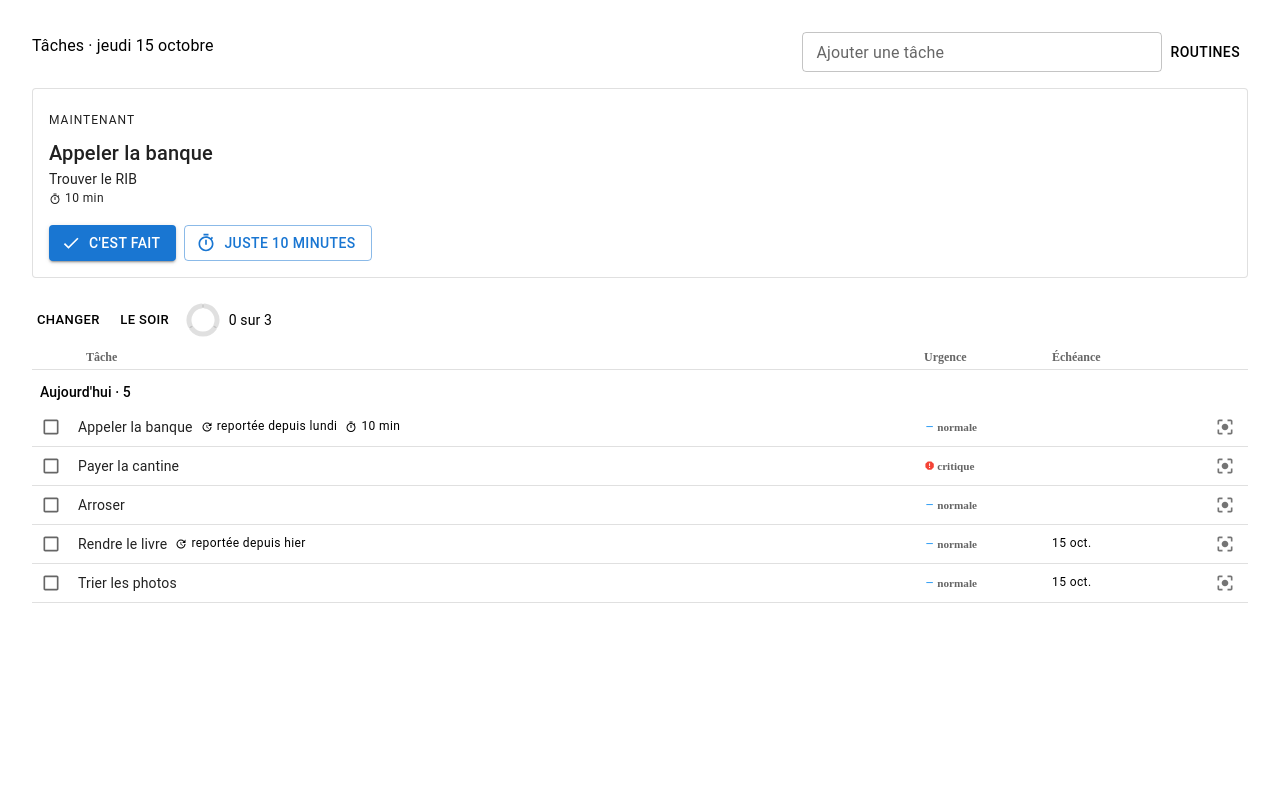
it: TaskBoard › the bravo (MAG-508) › a slot ticked from its checkbox and « C'est fait » in the Focus open the bravo too
The width and height of the screenshot is (1280, 800).
What coordinates should you click on to do the following:
click the checkbox named "Terminer Arroser"
I would click on:
 (51, 505)
Its box is left=41, top=495, right=61, bottom=515.
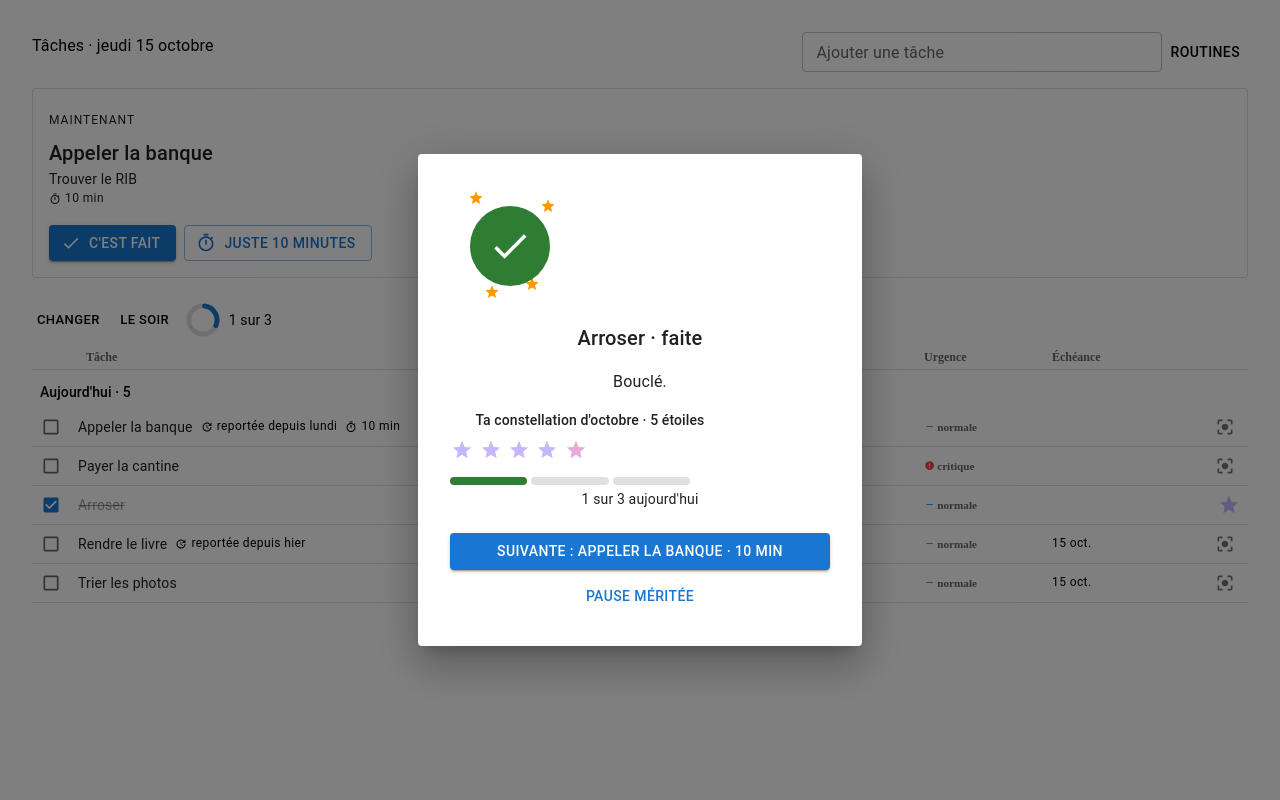
expect the dialog "Arroser · faite" shows "Bouclé.": met, box left=613, top=372, right=667, bottom=390
What coordinates should you click on to do the following:
click the button "Pause méritée"
I would click on:
 (640, 596)
Its box is left=450, top=578, right=830, bottom=614.
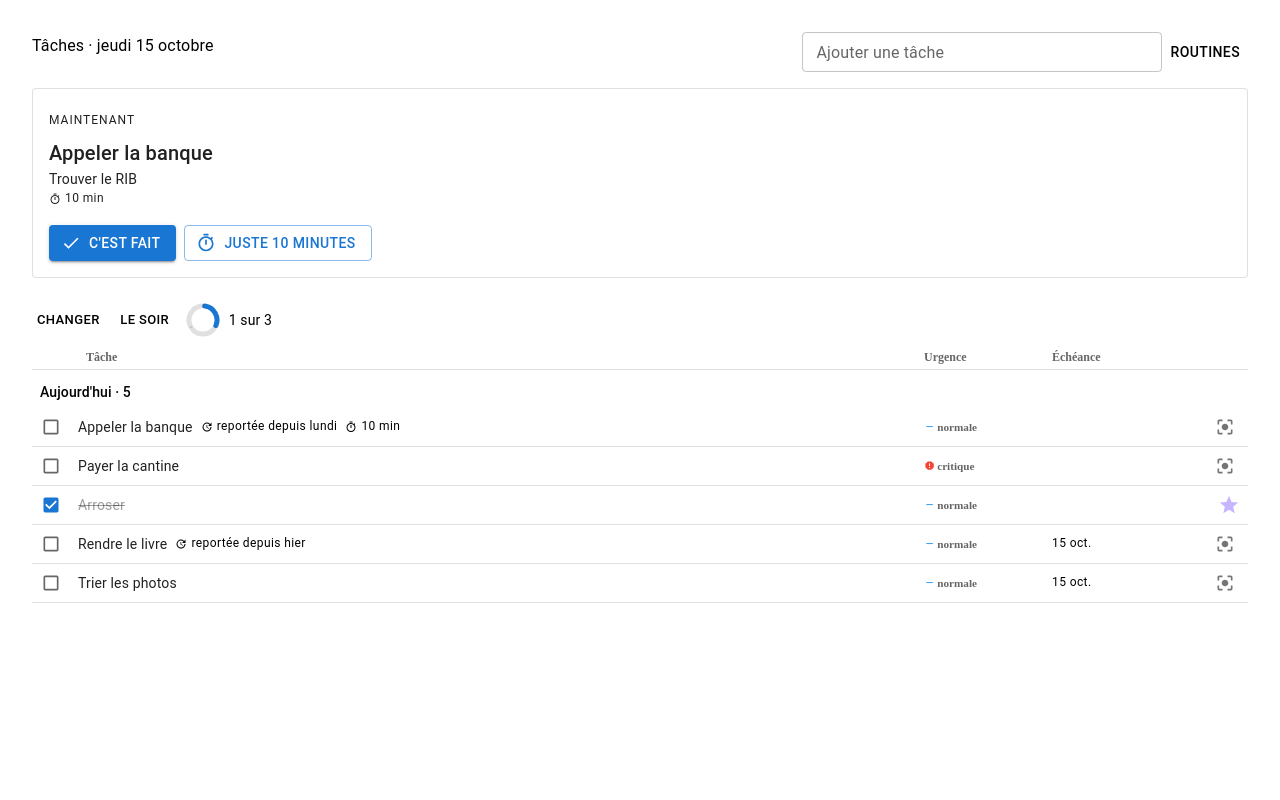
expect the dialog is gone: met
What coordinates should you click on to do the following:
click the button "Juste 10 minutes"
I would click on:
 (278, 243)
Its box is left=184, top=225, right=372, bottom=261.
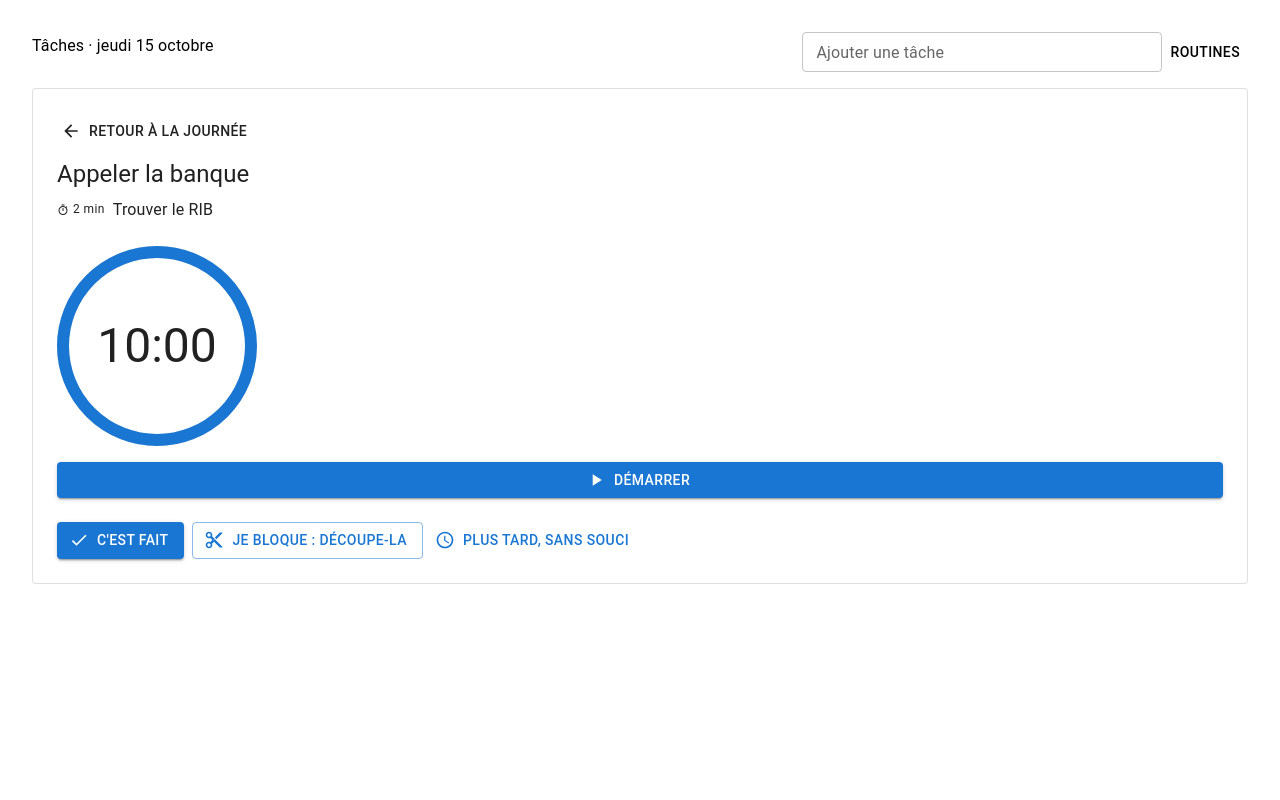
What coordinates should you click on to do the following:
click the button "C'est fait"
I would click on:
 (121, 540)
Its box is left=57, top=522, right=184, bottom=558.
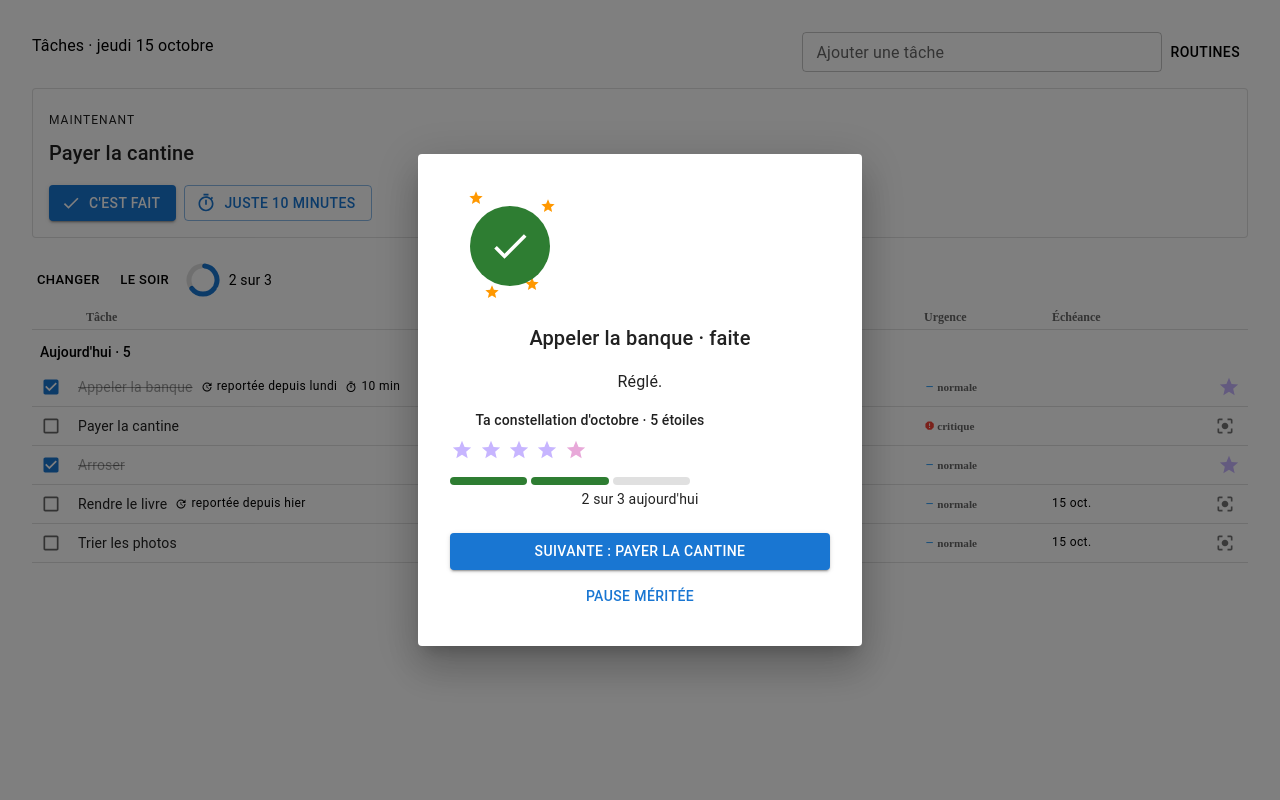
expect the dialog "Appeler la banque · faite" shows "Réglé.": met, box left=618, top=372, right=662, bottom=390
